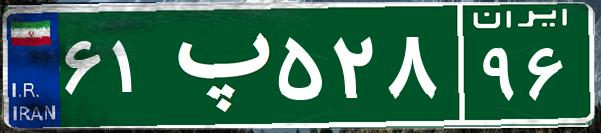1: (110, 28, 158, 105)
2: (330, 28, 385, 110)
5: (273, 28, 330, 110)
6: (57, 26, 110, 107), (525, 38, 570, 115)
8: (385, 28, 445, 110)
9: (475, 38, 525, 113)
پ: (158, 15, 273, 115)
